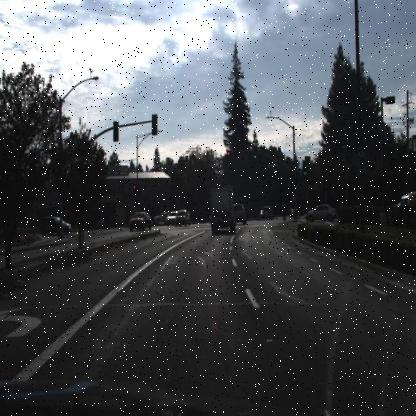car: (207, 183, 240, 238), (301, 200, 342, 225), (37, 213, 71, 236), (38, 214, 72, 234), (127, 211, 154, 232), (232, 201, 247, 226), (174, 209, 192, 228), (260, 203, 275, 222), (164, 209, 180, 226), (288, 204, 301, 222), (166, 209, 178, 223)
trafficLight-Green: (299, 154, 311, 184), (252, 146, 258, 164)
trafficLight-RedLeft: (132, 180, 137, 196), (226, 149, 231, 163)
truck: (208, 184, 236, 237)
